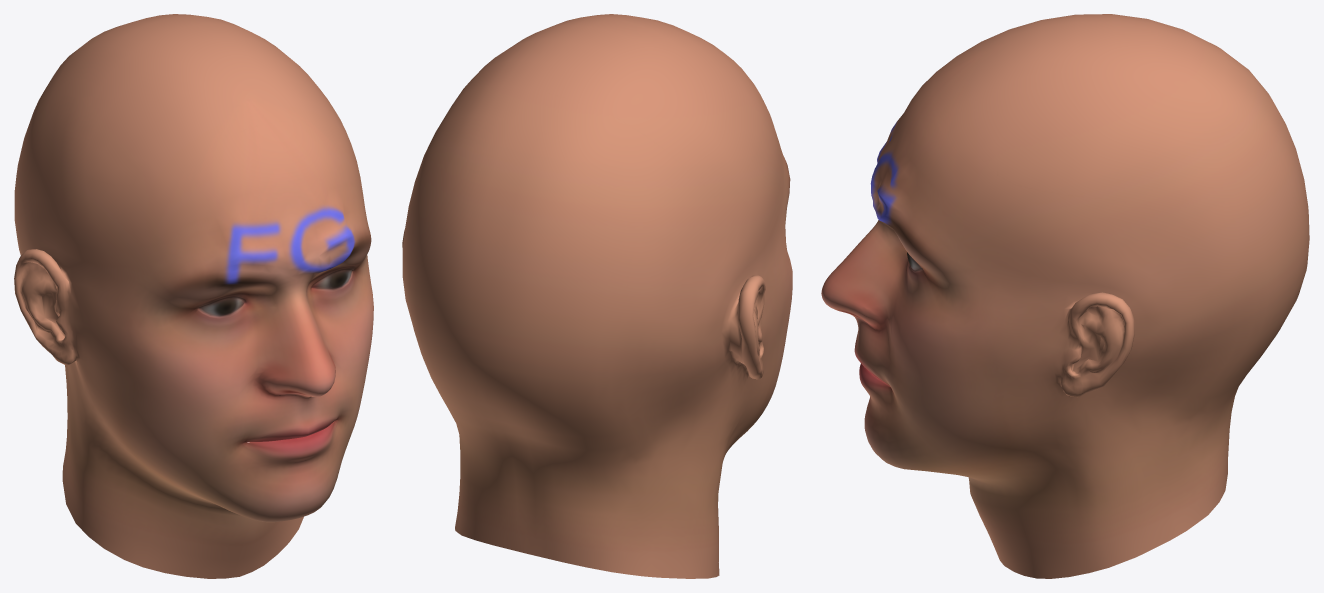
Rendered from avg_european_male.obj.
3 views of the same model, side by side, from view 1: azimuth 30°, elevation 25°; view 2: azimuth 150°, elevation 25°; view 3: azimuth 270°, elevation 25° (orthographic). The views are drawn at different scales.
Visible parts, largest first — view 1: HeadHires; view 2: HeadHires; view 3: HeadHires.
Part boxes in pixels (x1,y1,x2,y2): HeadHires: [14, 14, 373, 578]; HeadHires: [402, 14, 792, 578]; HeadHires: [821, 14, 1309, 578].
Size of the model in its own units: 189 by 283 by 238.
Materials: 1 (1 with a texture image).
